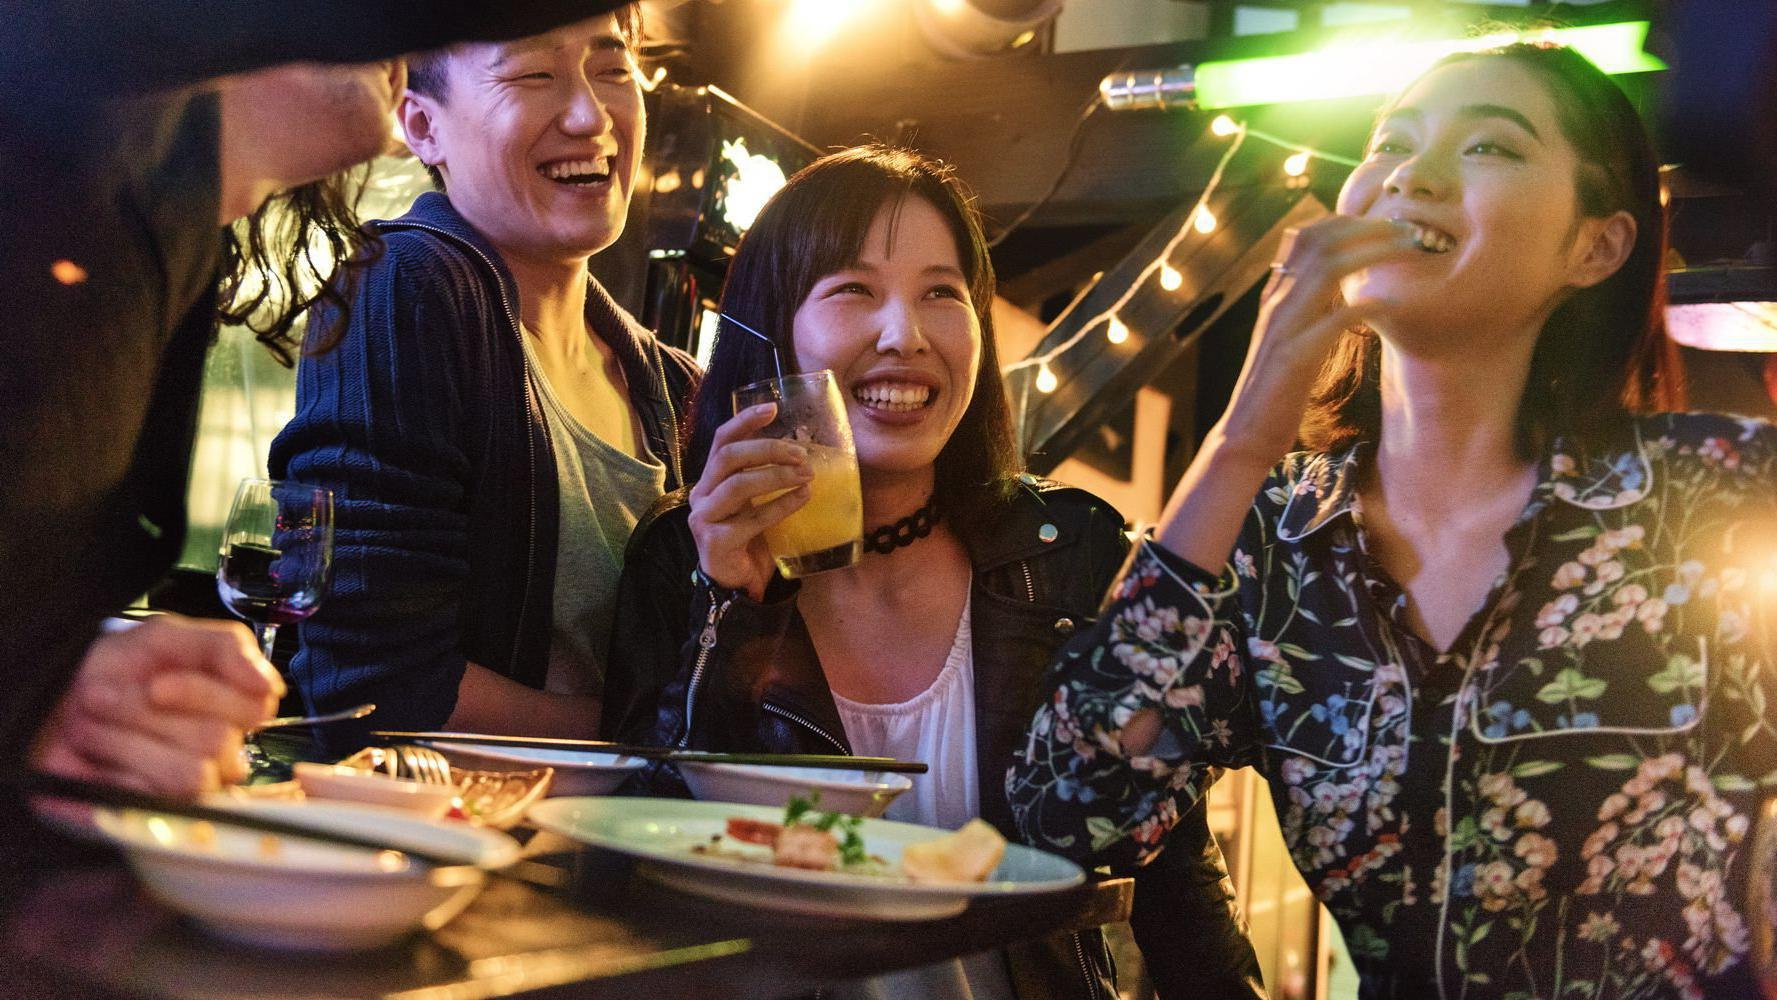Drunk: (1347, 62, 1552, 328), (797, 184, 980, 458), (485, 28, 649, 239)
